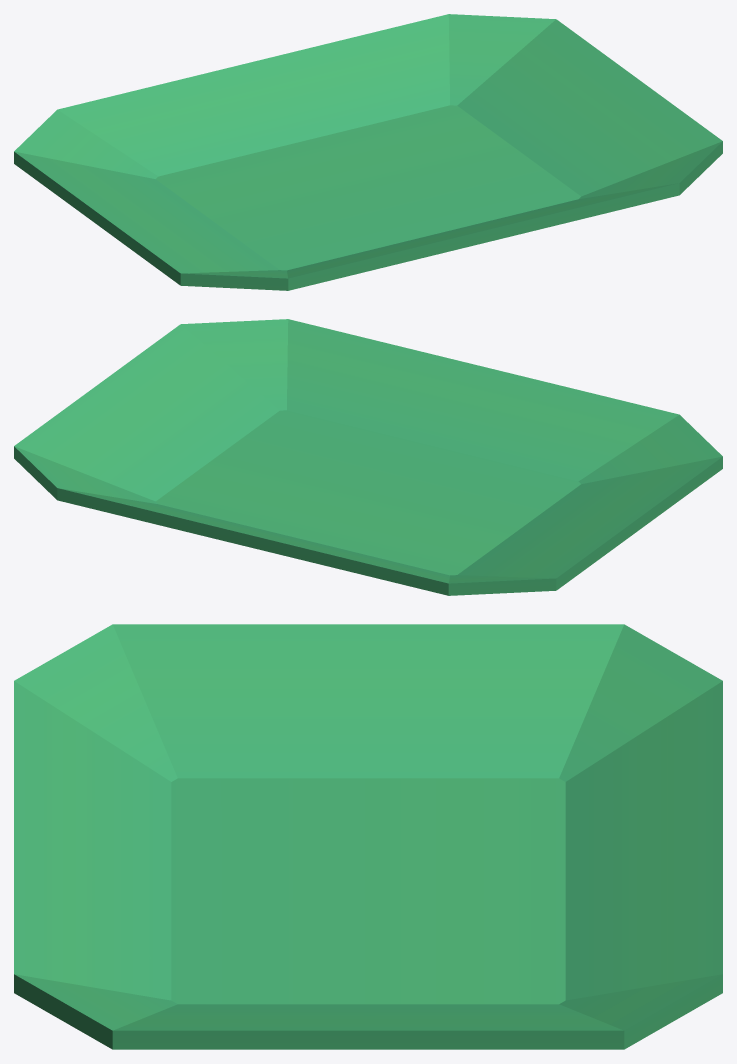
The model's file is Tray.fbx.
3 renders of one model, top to bottom at view 1: azimuth 30°, elevation 25°; view 2: azimuth 150°, elevation 25°; view 3: azimuth 270°, elevation 25°, orthographic. The views are drawn at different scales.
Parts seen in each view (by area): view 1: Tray; view 2: Tray; view 3: Tray.
Boxes of the visible parts, bbox=[...] form: Tray: bbox=[14, 14, 722, 290]; Tray: bbox=[14, 319, 722, 595]; Tray: bbox=[14, 624, 722, 1049].
Size of the model in its own units: 200 by 20.28 by 147.
